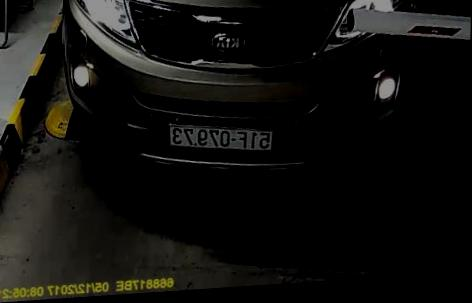License_Plate: (164, 117, 276, 158)
